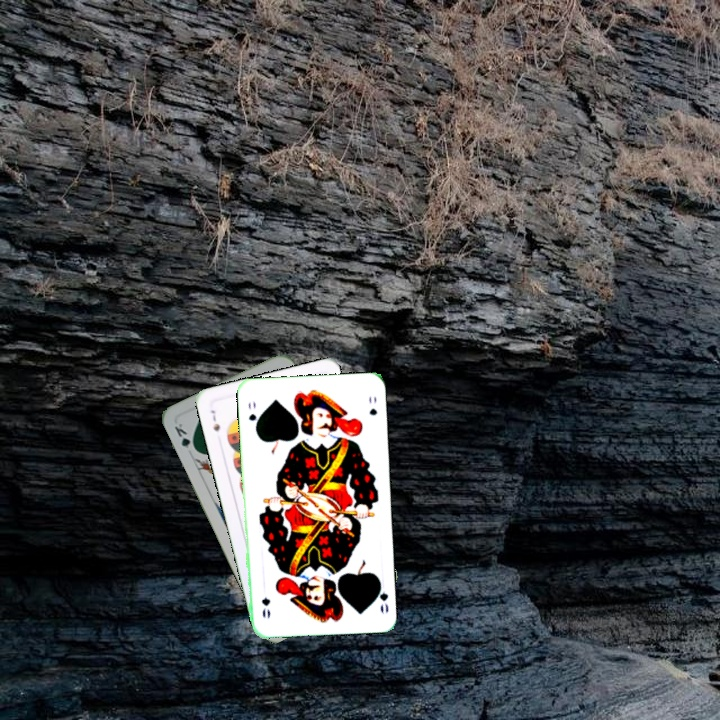GK: (170, 419, 199, 454)
GO: (371, 576, 391, 616), (244, 397, 261, 433)
S7: (207, 406, 223, 434)
